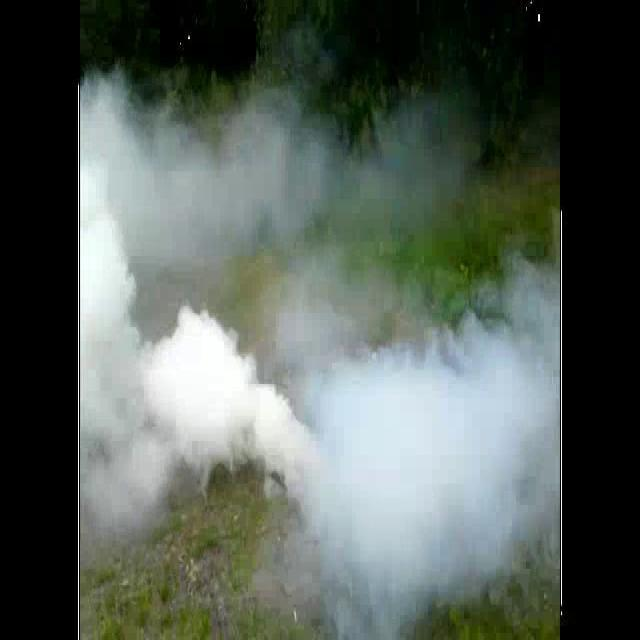Smoke: (312, 213, 562, 640), (82, 172, 326, 538), (79, 72, 474, 276)
